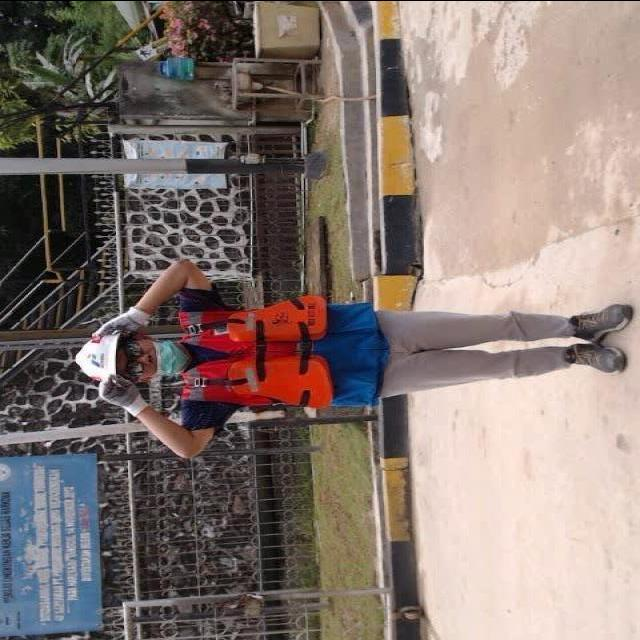boots: (561, 300, 635, 343), (562, 341, 627, 373)
helmet: (74, 331, 125, 381)
vest: (176, 295, 379, 408)
